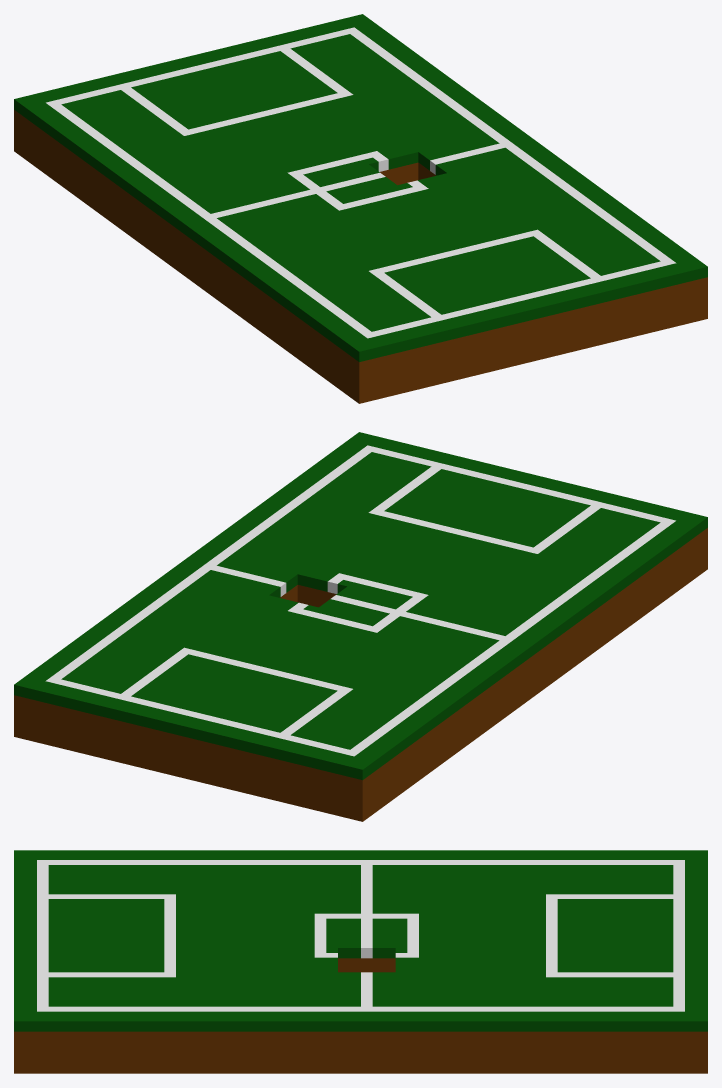
Rendered from floor.obj.
The picture shows the model from 3 angles, top to bottom: view 1: azimuth 30°, elevation 25°; view 2: azimuth 150°, elevation 25°; view 3: azimuth 270°, elevation 25°; orthographic projection.
Parts seen in each view (by area): view 1: floor; view 2: floor; view 3: floor.
Boxes of the visible parts, bbox=[...] form: floor: bbox=[14, 14, 707, 403]; floor: bbox=[14, 432, 707, 821]; floor: bbox=[14, 850, 707, 1073].
Bounding box in the file's own units: 35 × 5 × 60.
Materials: 1 (1 with a texture image).
